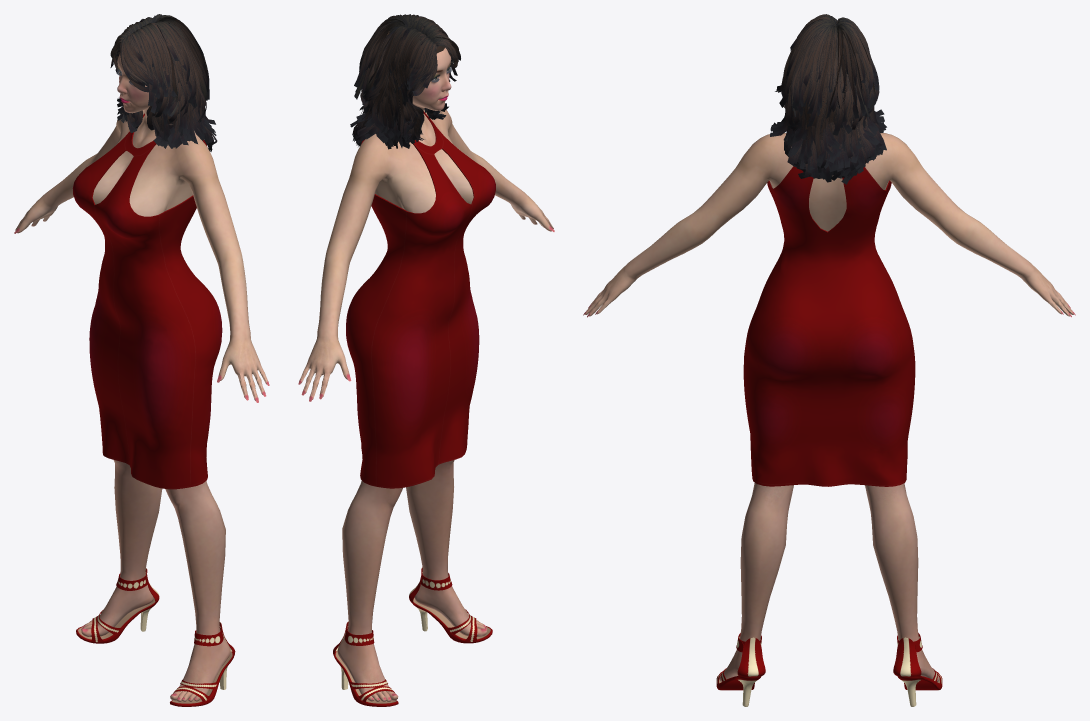
File: female2.glb
3 views of the same model, side by side, from view 1: azimuth 30°, elevation 25°; view 2: azimuth 150°, elevation 25°; view 3: azimuth 270°, elevation 25° (orthographic). The views are drawn at different scales.
Parts seen in each view (by area): view 1: Object_3, Object_6, Object_4, Object_5; view 2: Object_3, Object_6, Object_4, Object_5; view 3: Object_3, Object_6, Object_4, Object_5.
Boxes of the visible parts, x1=… form: Object_3: x1=72, y1=113, x2=222, y2=489; Object_6: x1=14, y1=53, x2=269, y2=701; Object_4: x1=110, y1=14, x2=217, y2=151; Object_5: x1=76, y1=568, x2=235, y2=706; Object_3: x1=346, y1=111, x2=495, y2=488; Object_6: x1=298, y1=48, x2=554, y2=701; Object_4: x1=350, y1=14, x2=460, y2=149; Object_5: x1=333, y1=567, x2=492, y2=706; Object_3: x1=743, y1=166, x2=915, y2=486; Object_6: x1=583, y1=133, x2=1075, y2=681; Object_4: x1=770, y1=14, x2=886, y2=184; Object_5: x1=716, y1=633, x2=942, y2=706.
Size of the model in its own units: 0.467 by 2.5 by 1.65.
7 materials, 7 textured.
